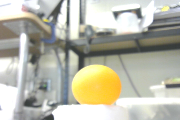PingPongBall: (73, 65, 121, 106)
